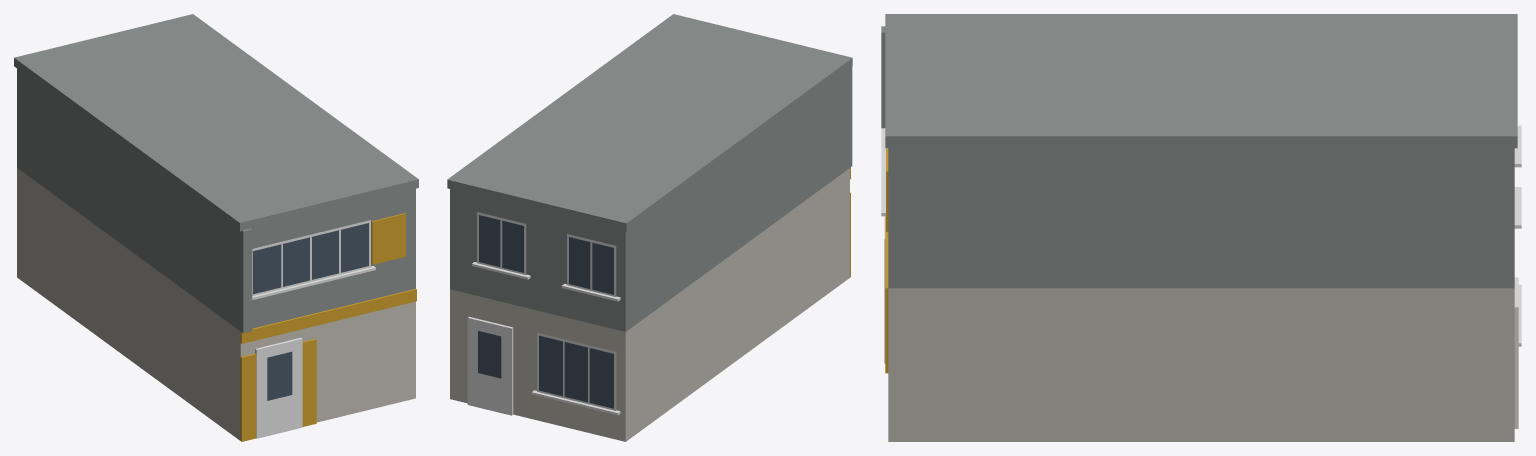
The model's file is zo-kb-patio-ribbon__yellow__2__flat__long__solid.glb.
The picture shows the model from 3 angles, left to right: view 1: azimuth 30°, elevation 25°; view 2: azimuth 150°, elevation 25°; view 3: azimuth 270°, elevation 25°; orthographic projection. The views are drawn at different scales.
Parts seen in each view (by area): view 1: zo-kb-patio-ribbon__yellow__2__flat__long__solid; view 2: zo-kb-patio-ribbon__yellow__2__flat__long__solid; view 3: zo-kb-patio-ribbon__yellow__2__flat__long__solid.
Part boxes in pixels (bbox=[...]): zo-kb-patio-ribbon__yellow__2__flat__long__solid: bbox=[14, 14, 418, 441]; zo-kb-patio-ribbon__yellow__2__flat__long__solid: bbox=[447, 14, 852, 441]; zo-kb-patio-ribbon__yellow__2__flat__long__solid: bbox=[881, 14, 1521, 441].
Size of the model in its own units: 4.79 by 5.61 by 10.6.
